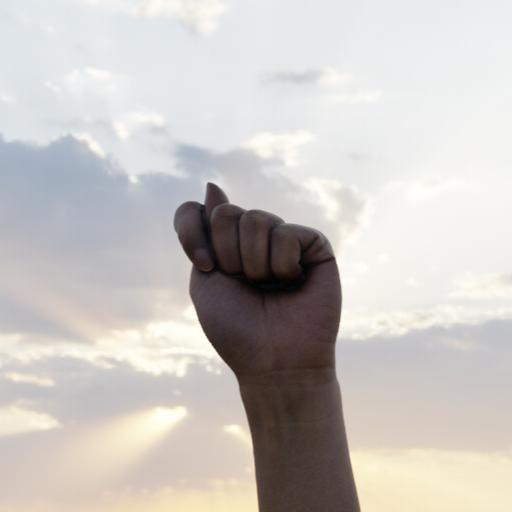T: (161, 162, 361, 412)
